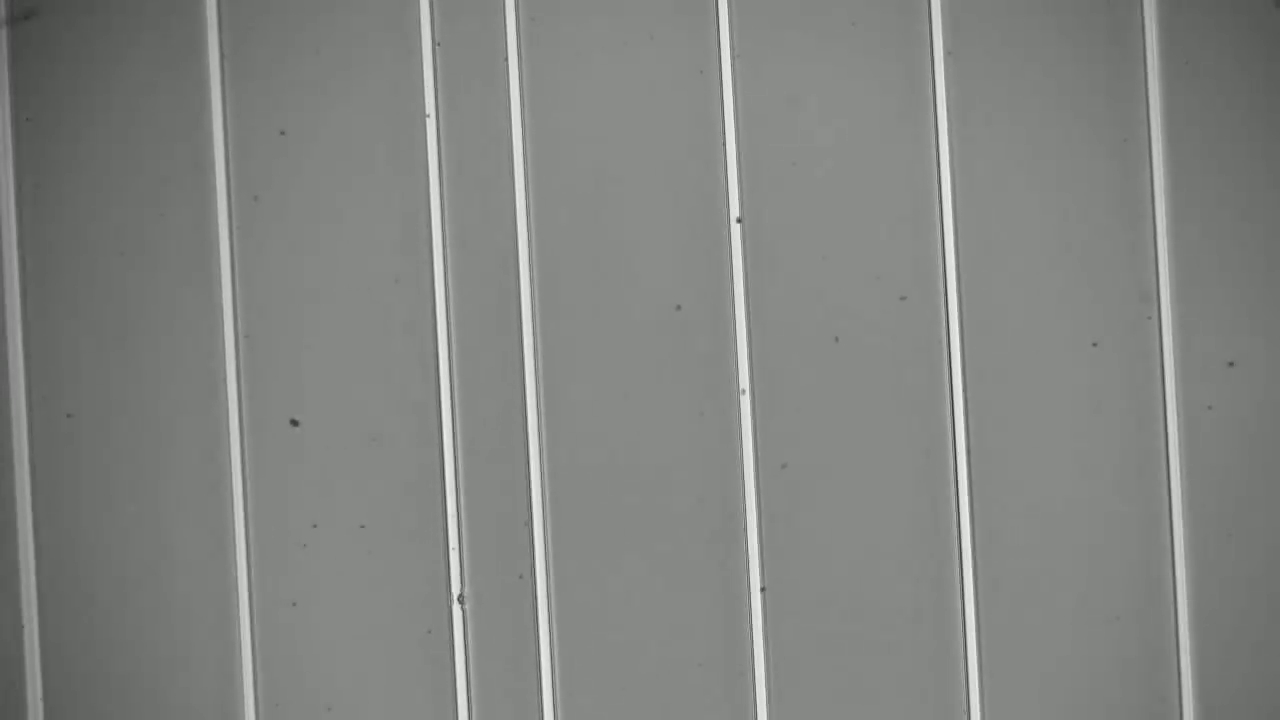stains_enbedded: (444, 584, 477, 616)
